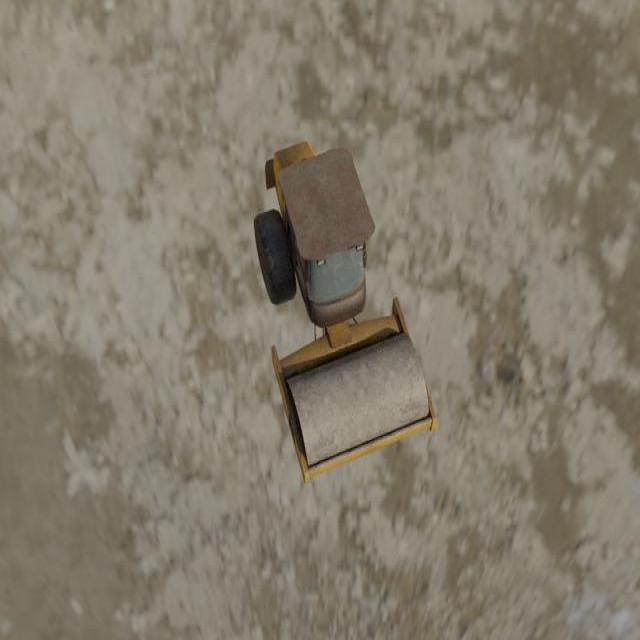Roller: (253, 140, 437, 484)
